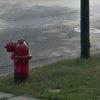Hydrant: (2, 31, 33, 86)
